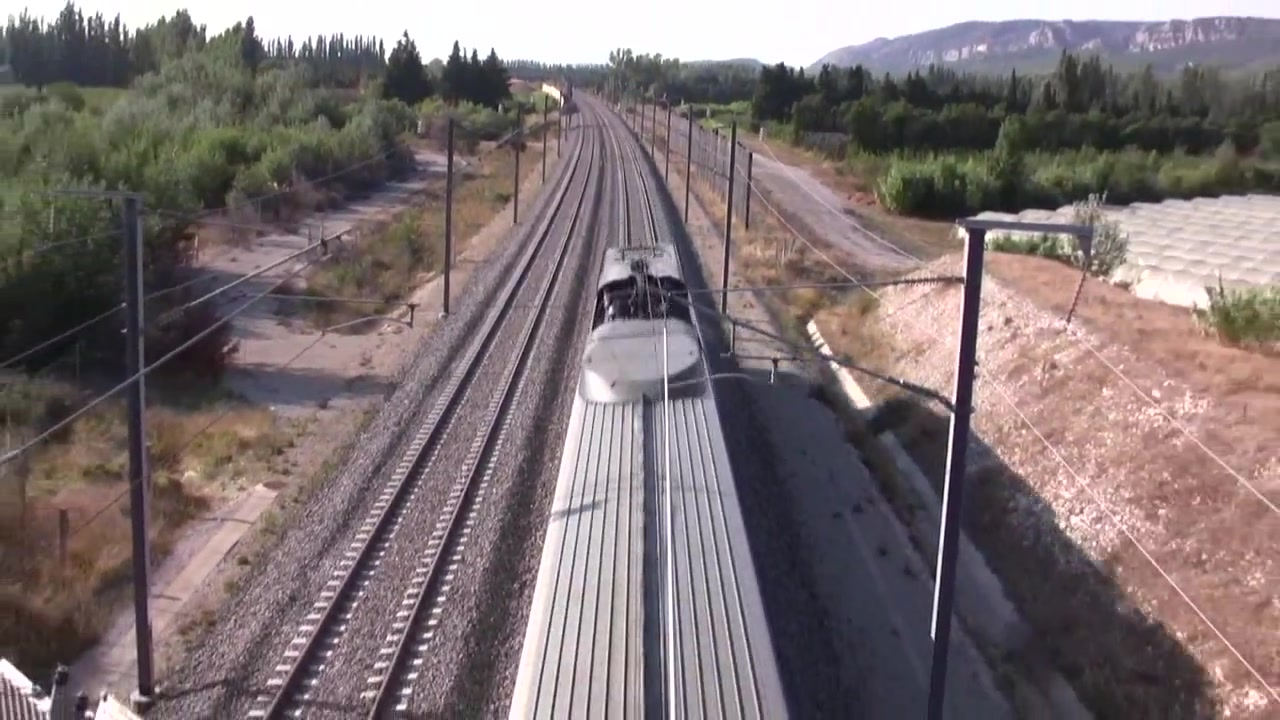train: (503, 242, 797, 720)
